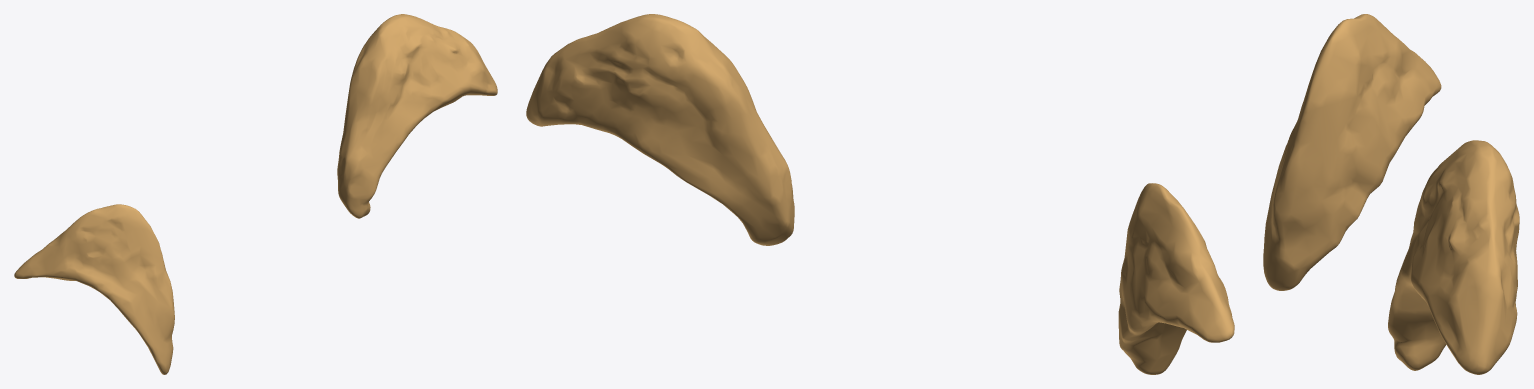
The model's file is nebenniere-bp.glb.
The picture shows the model from 3 angles, left to right: view 1: azimuth 30°, elevation 25°; view 2: azimuth 150°, elevation 25°; view 3: azimuth 270°, elevation 25°; orthographic projection. The views are drawn at different scales.
Parts seen in each view (by area): view 1: FJ3129 Left adrenal gland, FJ3130 Right adrenal gland; view 2: FJ3129 Left adrenal gland, FJ3130 Right adrenal gland; view 3: FJ3130 Right adrenal gland, FJ3129 Left adrenal gland.
Boxes of the visible parts, x1=… form: FJ3129 Left adrenal gland: x1=337, y1=14, x2=497, y2=218; FJ3130 Right adrenal gland: x1=14, y1=204, x2=174, y2=374; FJ3129 Left adrenal gland: x1=526, y1=14, x2=794, y2=245; FJ3130 Right adrenal gland: x1=1118, y1=183, x2=1234, y2=374; FJ3130 Right adrenal gland: x1=1263, y1=14, x2=1441, y2=290; FJ3129 Left adrenal gland: x1=1388, y1=140, x2=1519, y2=374.
Bounding box in the file's own units: 3.4 × 1.54 × 0.9658.
